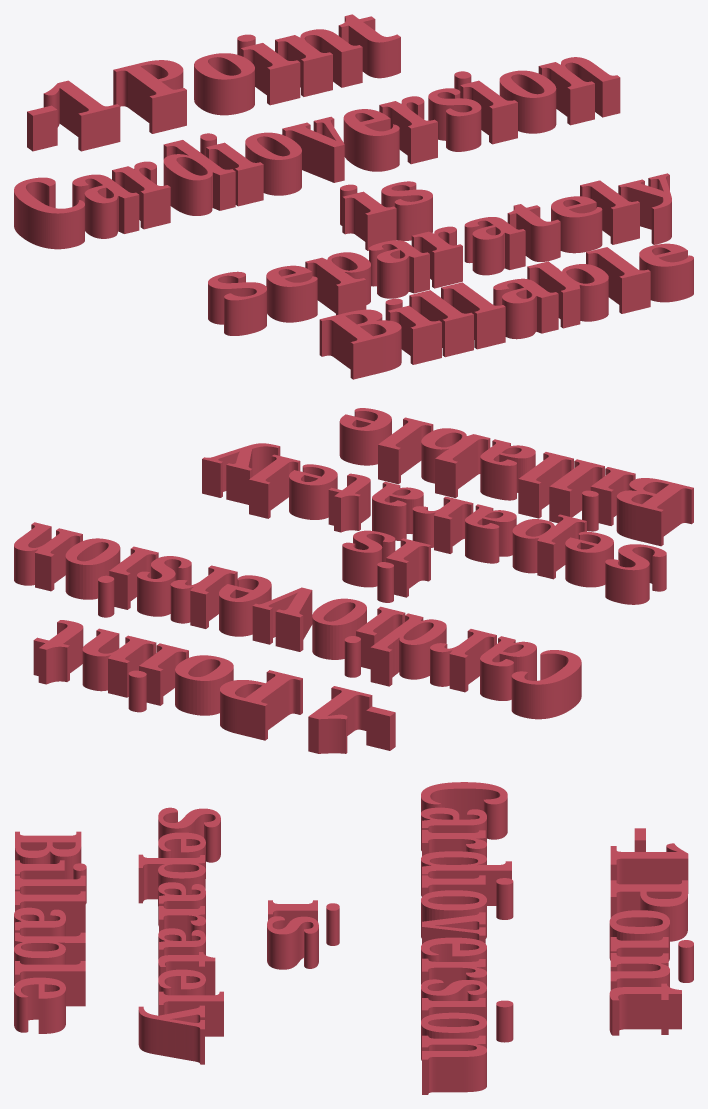
Rendered from nevtach.gltf.
The picture shows the model from 3 angles, top to bottom: view 1: azimuth 30°, elevation 25°; view 2: azimuth 150°, elevation 25°; view 3: azimuth 270°, elevation 25°; orthographic projection. The views are drawn at different scales.
Visible parts, largest first — view 1: Mesh_Mesh_head_geo001_lambert2SG001; view 2: Mesh_Mesh_head_geo001_lambert2SG001; view 3: Mesh_Mesh_head_geo001_lambert2SG001.
Part boxes in pixels (x1=…): Mesh_Mesh_head_geo001_lambert2SG001: x1=14, y1=14, x2=693, y2=379; Mesh_Mesh_head_geo001_lambert2SG001: x1=14, y1=408, x2=693, y2=753; Mesh_Mesh_head_geo001_lambert2SG001: x1=14, y1=782, x2=693, y2=1094.
Bounding box in the file's own units: 169 × 10 × 175.
